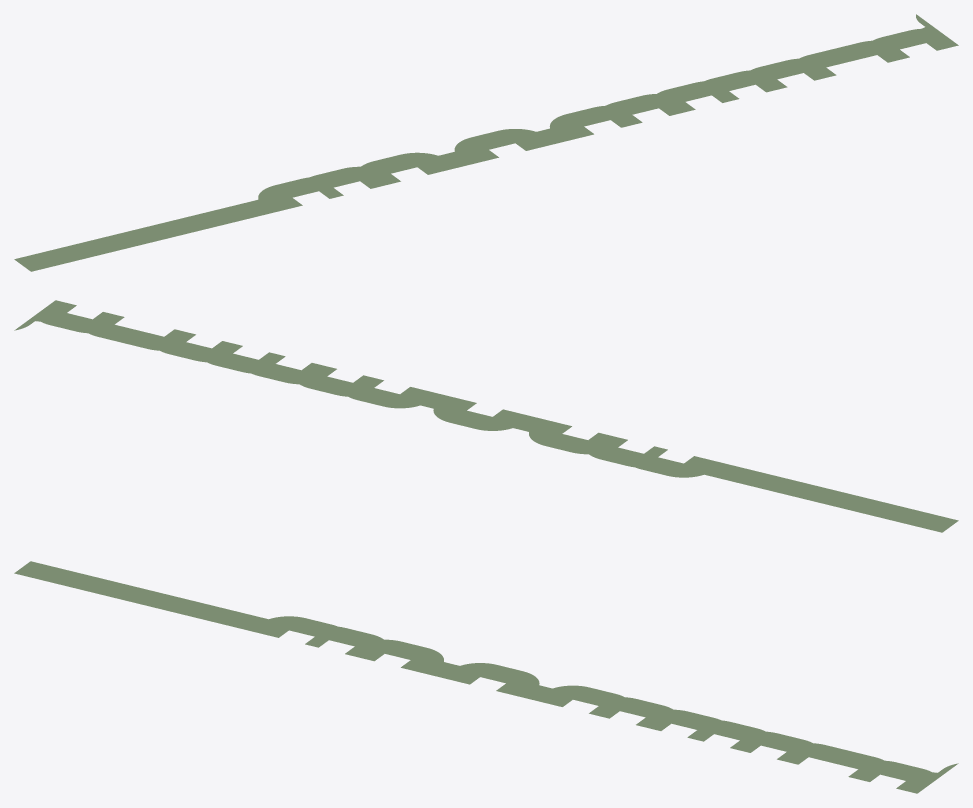
File: SM_MPRR_CampusGreen_0_0.fbx
The picture shows the model from 3 angles, top to bottom: view 1: azimuth 30°, elevation 25°; view 2: azimuth 150°, elevation 25°; view 3: azimuth 330°, elevation 25°; orthographic projection. The views are drawn at different scales.
Visible parts, largest first — view 1: SM_MPRR_CampusGreen_0_0; view 2: SM_MPRR_CampusGreen_0_0; view 3: SM_MPRR_CampusGreen_0_0.
Part boxes in pixels (left/top/right/bottom): SM_MPRR_CampusGreen_0_0: left=14, top=14, right=958, bottom=271; SM_MPRR_CampusGreen_0_0: left=14, top=300, right=958, bottom=532; SM_MPRR_CampusGreen_0_0: left=14, top=561, right=958, bottom=793.
Bounding box in the file's own units: 15000 × 1199 × 0.
